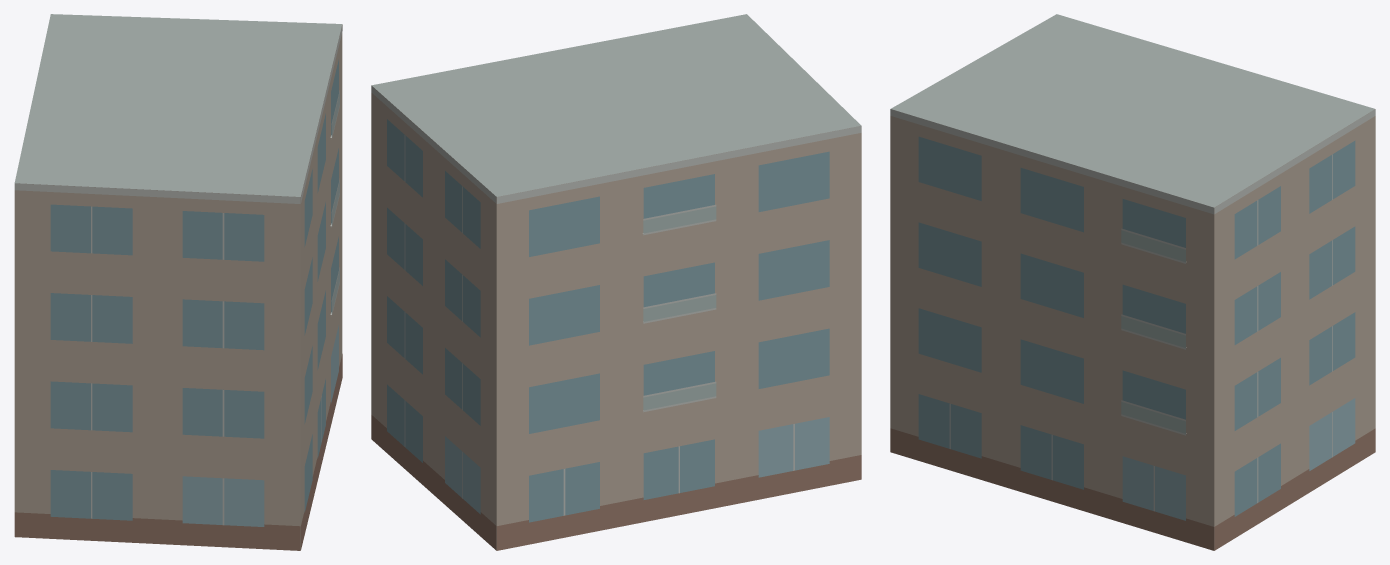
Rendered from survey-upis-32973806.glb.
The picture shows the model from 3 angles, left to right: view 1: azimuth 30°, elevation 25°; view 2: azimuth 150°, elevation 25°; view 3: azimuth 270°, elevation 25°; orthographic projection. The views are drawn at different scales.
Parts seen in each view (by area): view 1: survey-upis-32973806.tmp; view 2: survey-upis-32973806.tmp; view 3: survey-upis-32973806.tmp.
Part boxes in pixels (bbox=[...]): survey-upis-32973806.tmp: bbox=[14, 14, 342, 550]; survey-upis-32973806.tmp: bbox=[371, 14, 861, 550]; survey-upis-32973806.tmp: bbox=[890, 14, 1375, 550].
Size of the model in its own units: 14.77 by 12.2 by 15.63.
